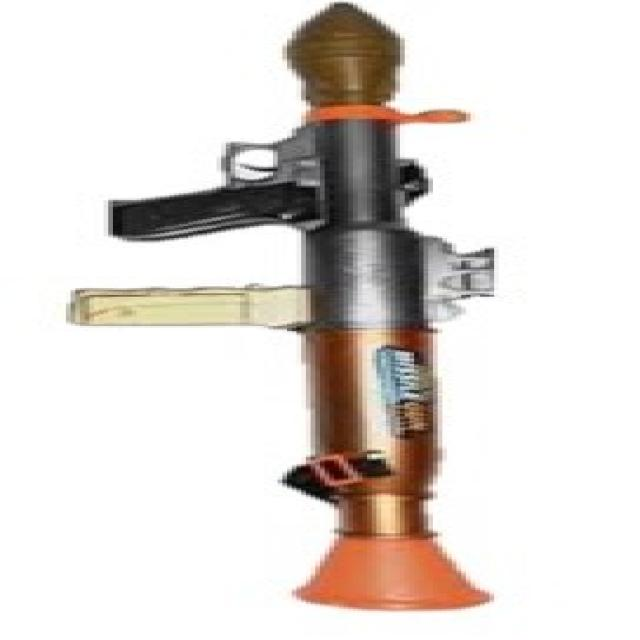bazooka: (41, 1, 581, 622)
